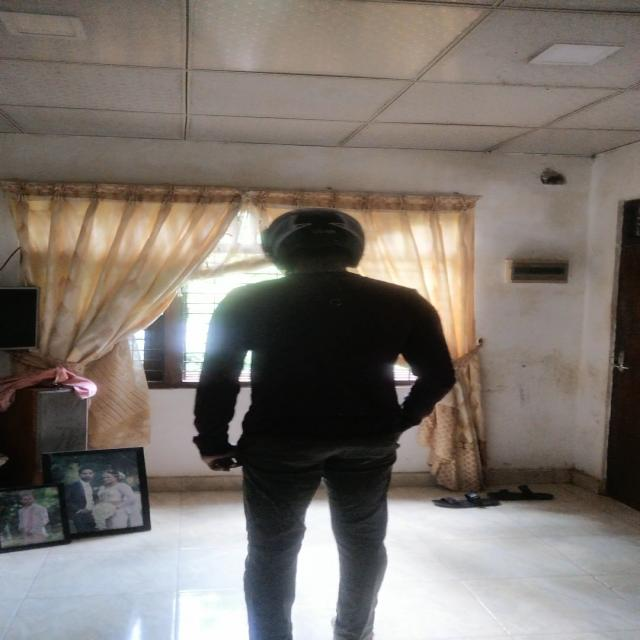Helmet_Wearer: (241, 203, 381, 289)
Person: (203, 202, 441, 628)
